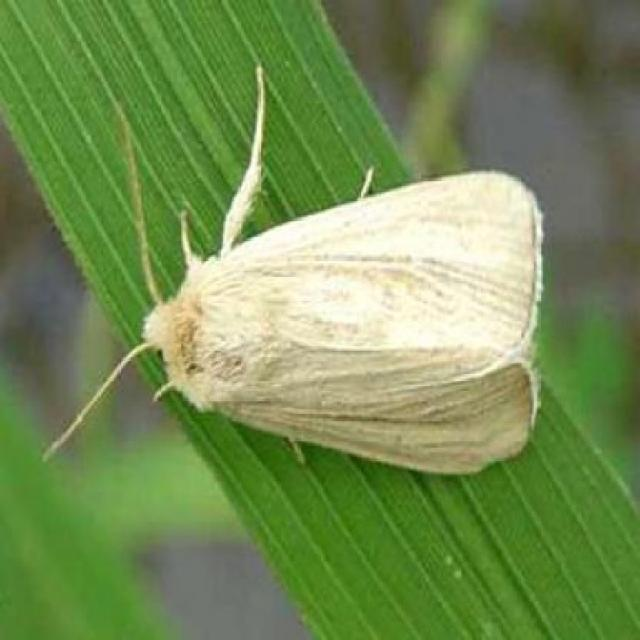stem-borer: (83, 116, 551, 487)
